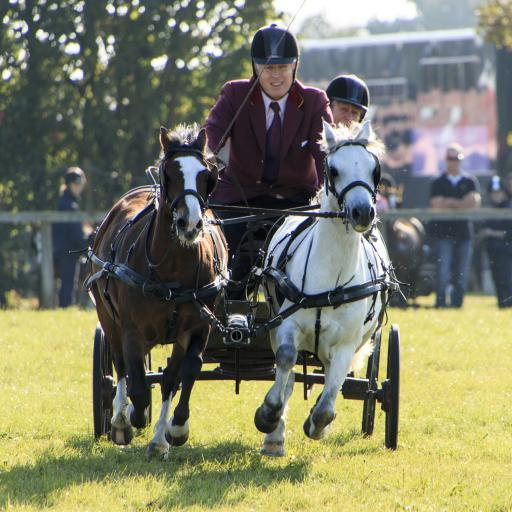Horse: (69, 121, 237, 459), (248, 113, 412, 457)
